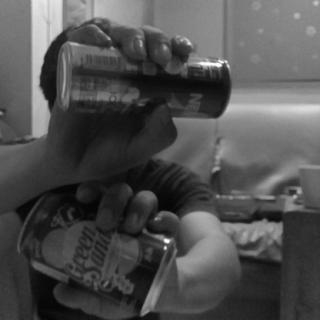alumunium_can: (17, 188, 175, 314), (51, 41, 235, 122)
